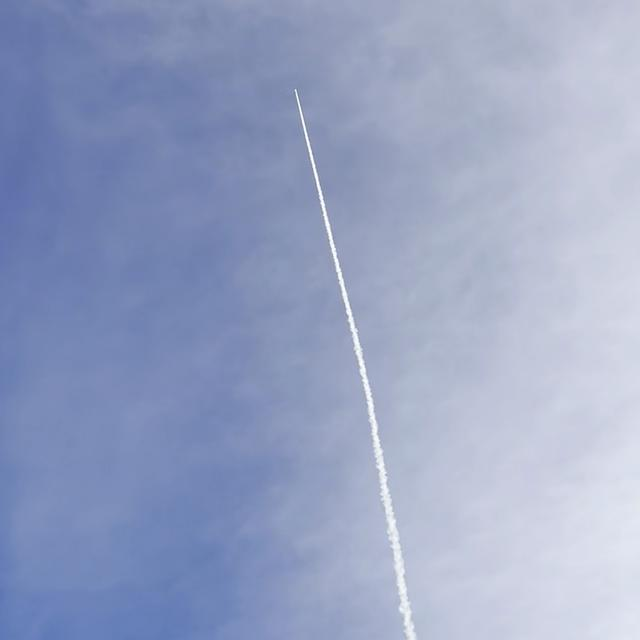smoke_trail_no_rocket: (295, 89, 417, 640)
